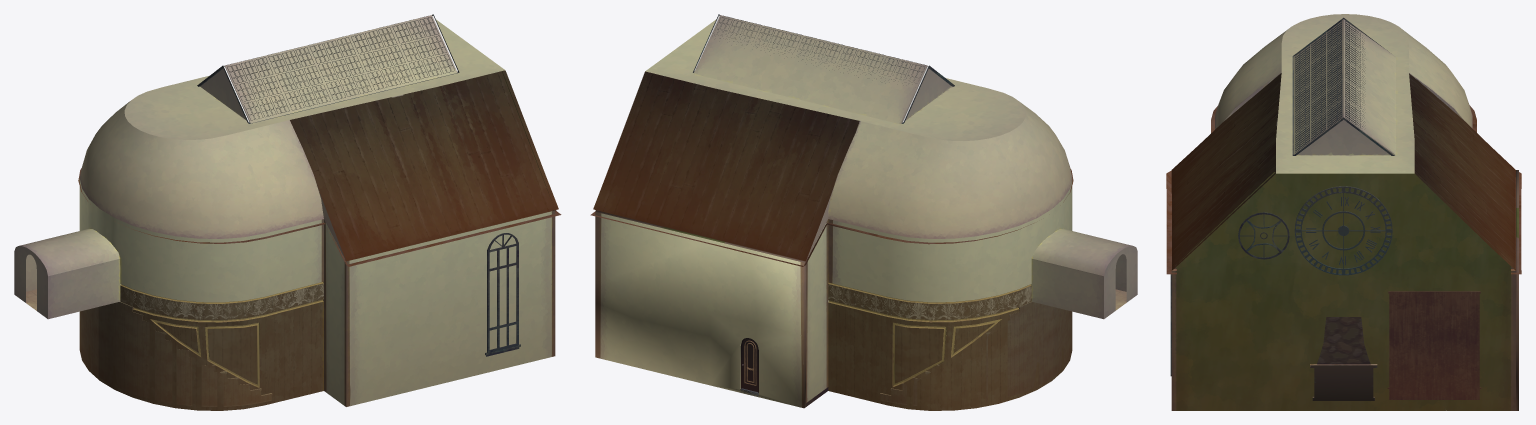
The model's file is RoomPlanetarium_Test03_V1.fbx.
3 views of the same model, side by side, from view 1: azimuth 30°, elevation 25°; view 2: azimuth 150°, elevation 25°; view 3: azimuth 270°, elevation 25° (orthographic). The views are drawn at different scales.
Visible parts, largest first — view 1: Ceiling, Walls, Stairs, Ceiling_Frame, Big_Frame_001, Stairs.001; view 2: Ceiling, Walls, Stairs.001, Ceiling_Frame, Stairs, Door.001; view 3: Walls, Ceiling, Bookshelf_Large, Ceiling_Frame, Fire Place, Clock_Frame, Circle_Frame, Clock_Numbers.
Boxes of the visible parts, left/top/right/bottom form: Ceiling: left=78, top=15, right=561, bottom=266; Walls: left=14, top=71, right=555, bottom=410; Stairs: left=98, top=301, right=272, bottom=406; Ceiling_Frame: left=197, top=14, right=459, bottom=123; Big_Frame_001: left=485, top=233, right=520, bottom=356; Stairs.001: left=80, top=307, right=98, bottom=376; Ceiling: left=590, top=15, right=1073, bottom=266; Walls: left=595, top=153, right=1137, bottom=410; Stairs.001: left=880, top=301, right=1053, bottom=405; Ceiling_Frame: left=693, top=14, right=954, bottom=123; Stairs: left=1053, top=307, right=1071, bottom=376; Door.001: left=742, top=338, right=758, bottom=391; Walls: left=1171, top=170, right=1518, bottom=410; Ceiling: left=1166, top=14, right=1521, bottom=274; Bookshelf_Large: left=1387, top=291, right=1481, bottom=399; Ceiling_Frame: left=1292, top=17, right=1394, bottom=155; Fire Place: left=1310, top=317, right=1377, bottom=400; Clock_Frame: left=1294, top=186, right=1392, bottom=275; Circle_Frame: left=1238, top=212, right=1289, bottom=259; Clock_Numbers: left=1306, top=197, right=1380, bottom=265.
Size of the model in its own units: 5883 by 3654 by 4235.
